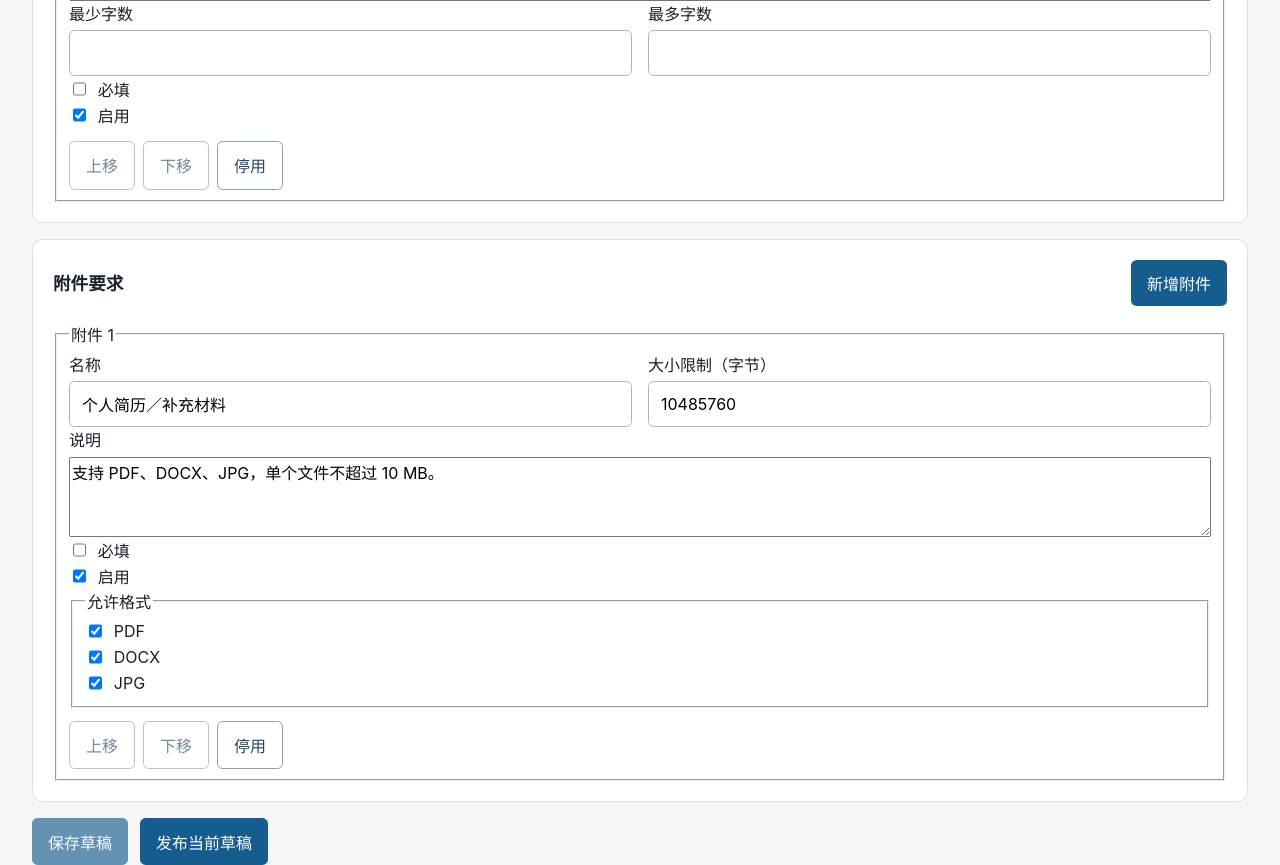
Test: RegistrationFormPage › keeps edits made while publish and its reload are in flight
(page scrolled)
Click the button "发布当前草稿": [204, 842] box [140,818,268,864]
(page scrolled)
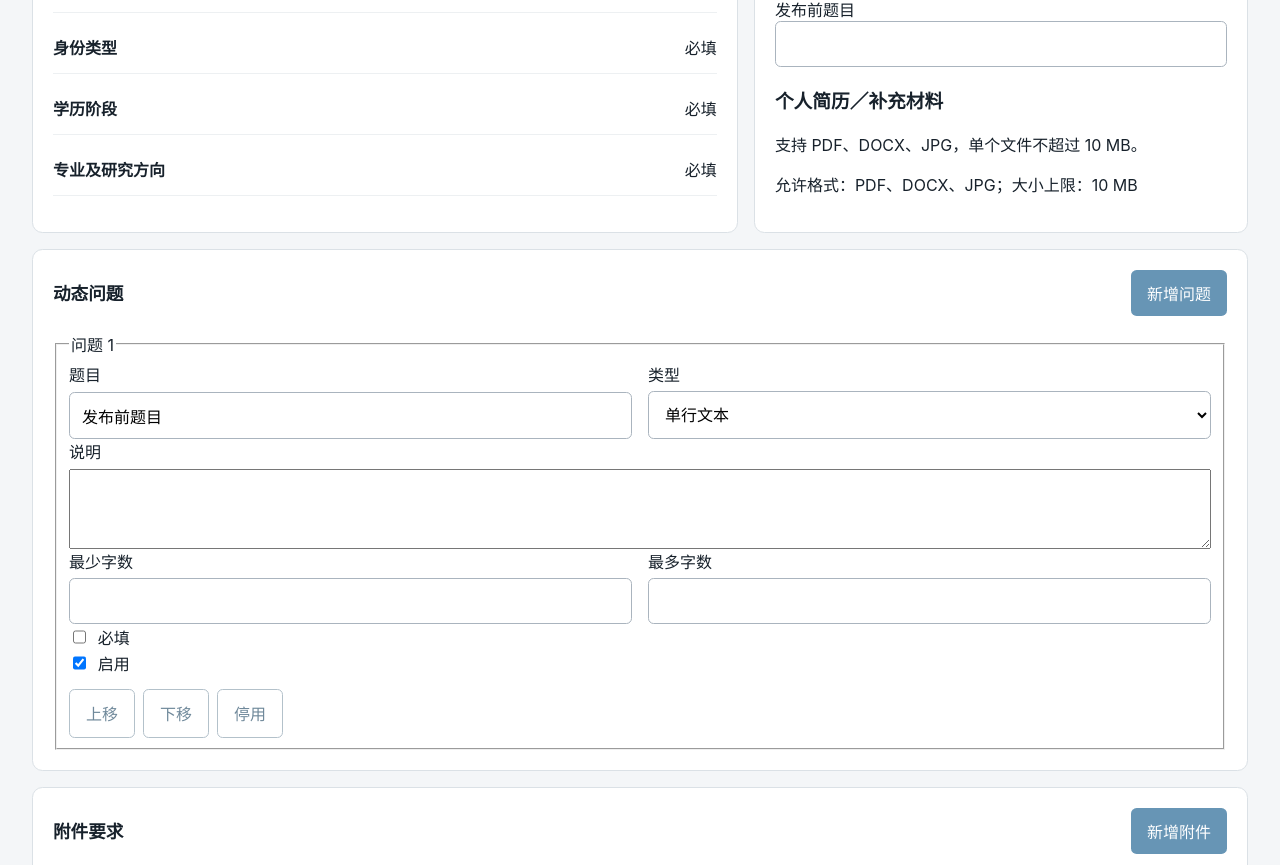
Replace the text in the field named "问题 1 题目" with "发布期间的新编辑": [350, 416] box [69,392,632,439]
(page scrolled)
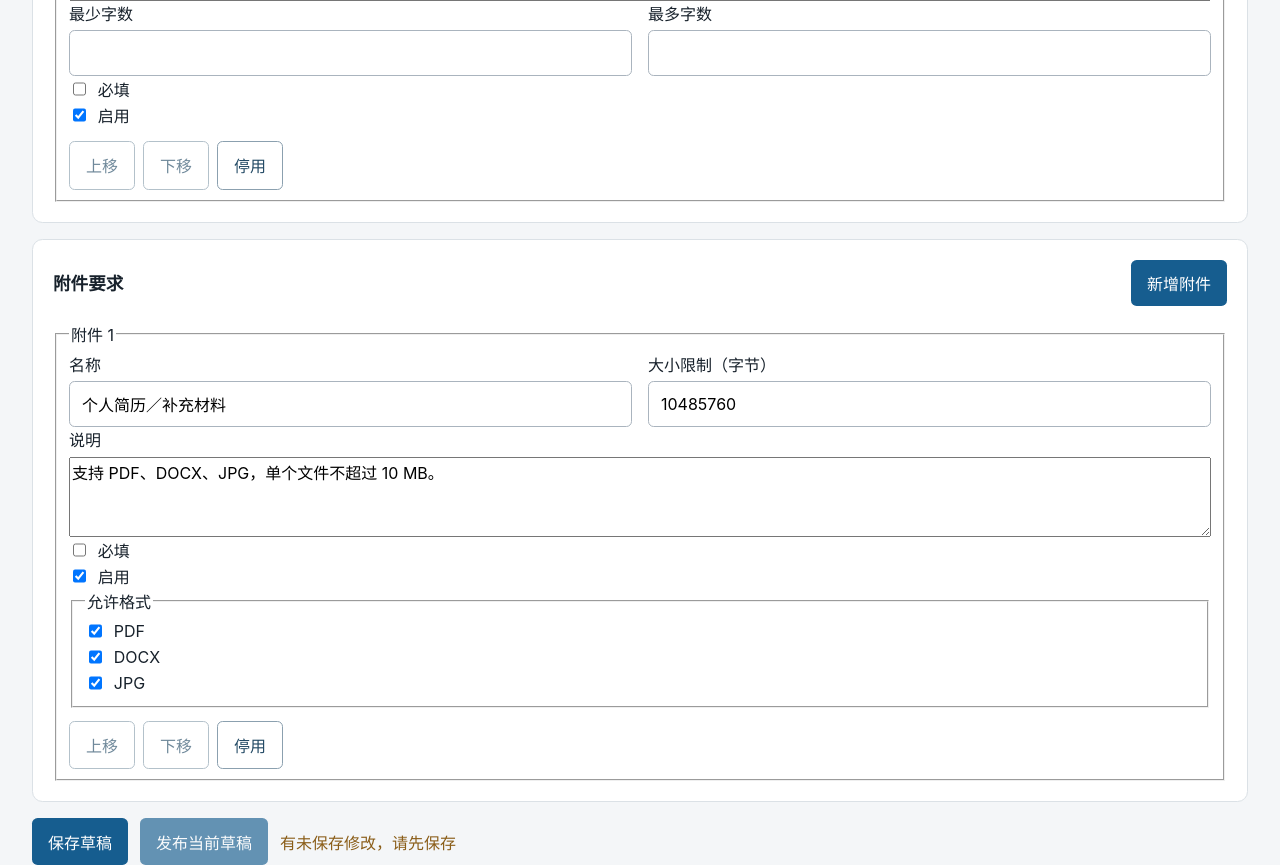
expect the text "有未保存修改，请先保存" is shown: met, box [280,830,456,854]
